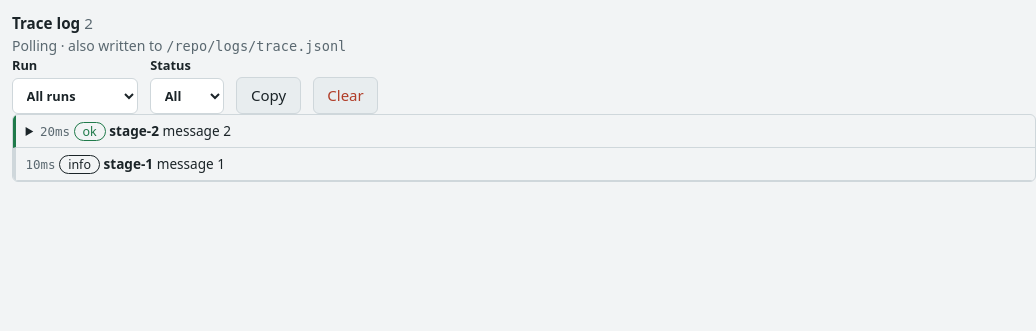
Scenario: TraceLog › is empty until a step is recorded, then lists every step newest first with its detail one click away
This screenshot has width=1036, height=331.
Expected: the heading "Trace log 2" is shown, x1=12 y1=13 x2=93 y2=33
Expected: the text "/repo/logs/trace.jsonl" is shown, x1=166 y1=38 x2=346 y2=54
What coordinates should you click on to do the following:
click the text "message 2"
I would click on:
 (197, 130)
Its box is x1=162 y1=121 x2=231 y2=140.
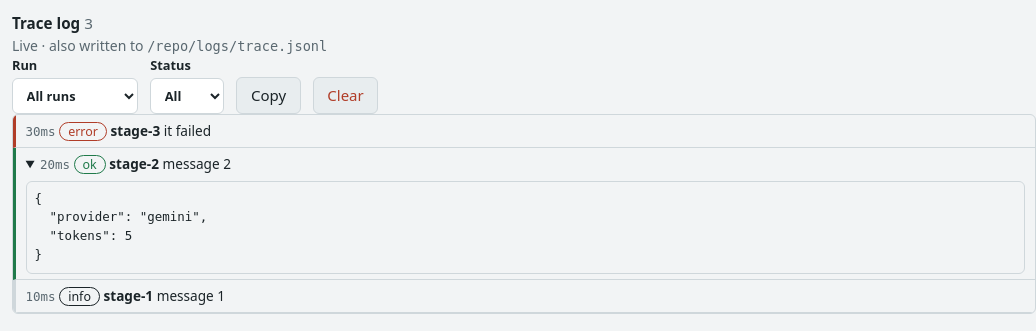
Now the text named "Detail of step 2" shows "\"provider\": \"gemini\"", box x1=35 y1=191 x2=207 y2=262
Now the message shows "Live", box x1=12 y1=36 x2=38 y2=55
Now the list item "30ms error stage-3 it failed" is shown, box x1=13 y1=115 x2=1035 y2=148
